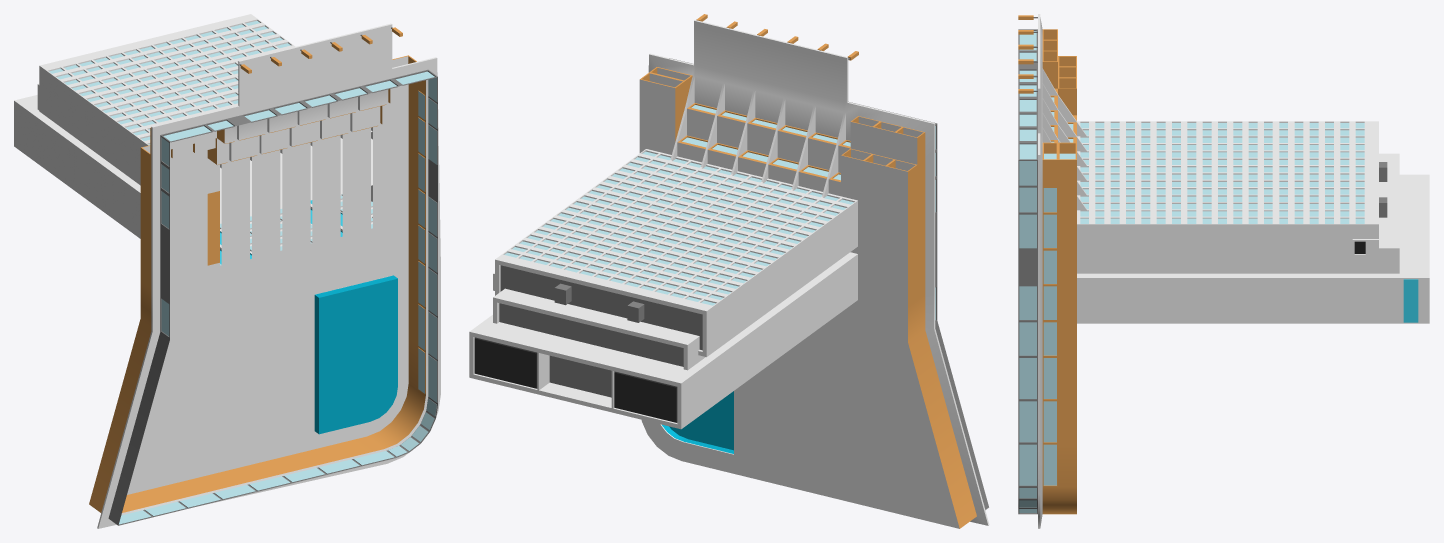
File: Mantra On View.fbx
3 views of the same model, side by side, from view 1: azimuth 30°, elevation 25°; view 2: azimuth 150°, elevation 25°; view 3: azimuth 270°, elevation 25° (orthographic).
Parts seen in each view (by area): view 1: Cube.002; view 2: Cube.002; view 3: Cube.002.
Part boxes in pixels (x1,y1,x2,y2): Cube.002: [14, 14, 440, 528]; Cube.002: [469, 14, 989, 528]; Cube.002: [1018, 14, 1429, 528].
Size of the model in its own units: 235 by 287 by 245.
